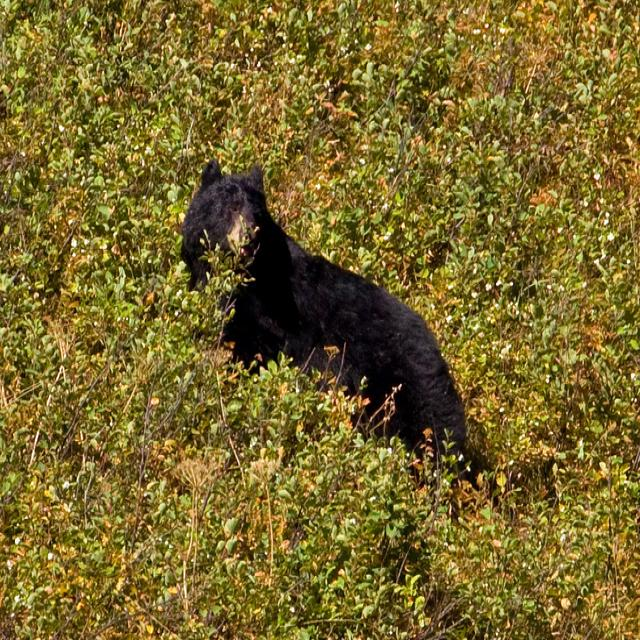Bear: (177, 152, 473, 458)
